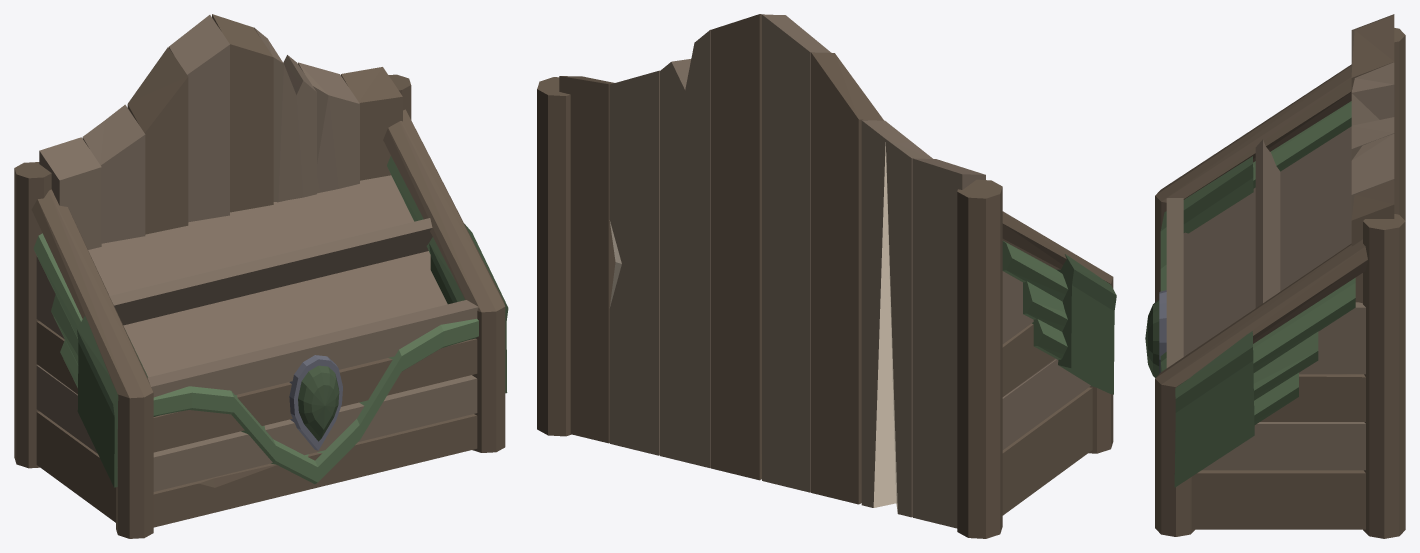
Rendered from _counter1.fbx.
The picture shows the model from 3 angles, left to right: view 1: azimuth 30°, elevation 25°; view 2: azimuth 150°, elevation 25°; view 3: azimuth 270°, elevation 25°; orthographic projection. The views are drawn at different scales.
Visible parts, largest first — view 1: counter1; view 2: counter1; view 3: counter1.
Boxes of the visible parts, bbox=[...] form: counter1: bbox=[14, 14, 508, 538]; counter1: bbox=[537, 14, 1116, 538]; counter1: bbox=[1145, 14, 1405, 538].
Size of the model in its own units: 341 by 328 by 183.
